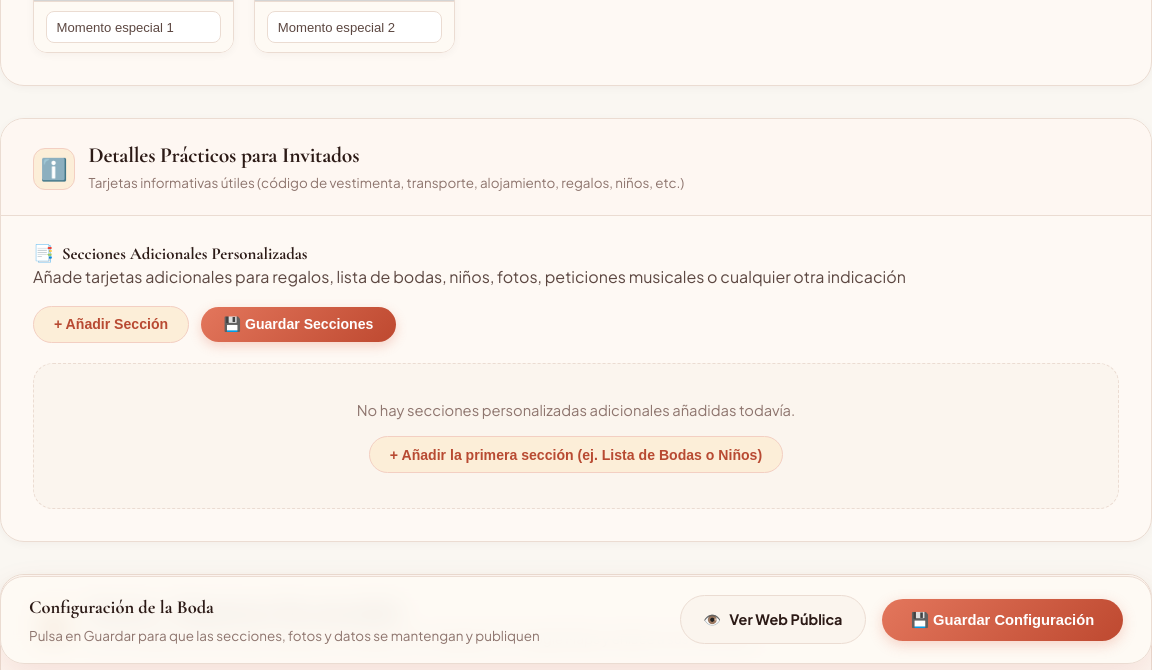
Test case: Feature: Configuración de Boda y Secciones Prácticas (AdminWeddingPage) › permite eliminar una sección personalizada creada
(page scrolled)
Click the button "+ Añadir Sección".
click(111, 324)  # box [33, 306, 189, 343]
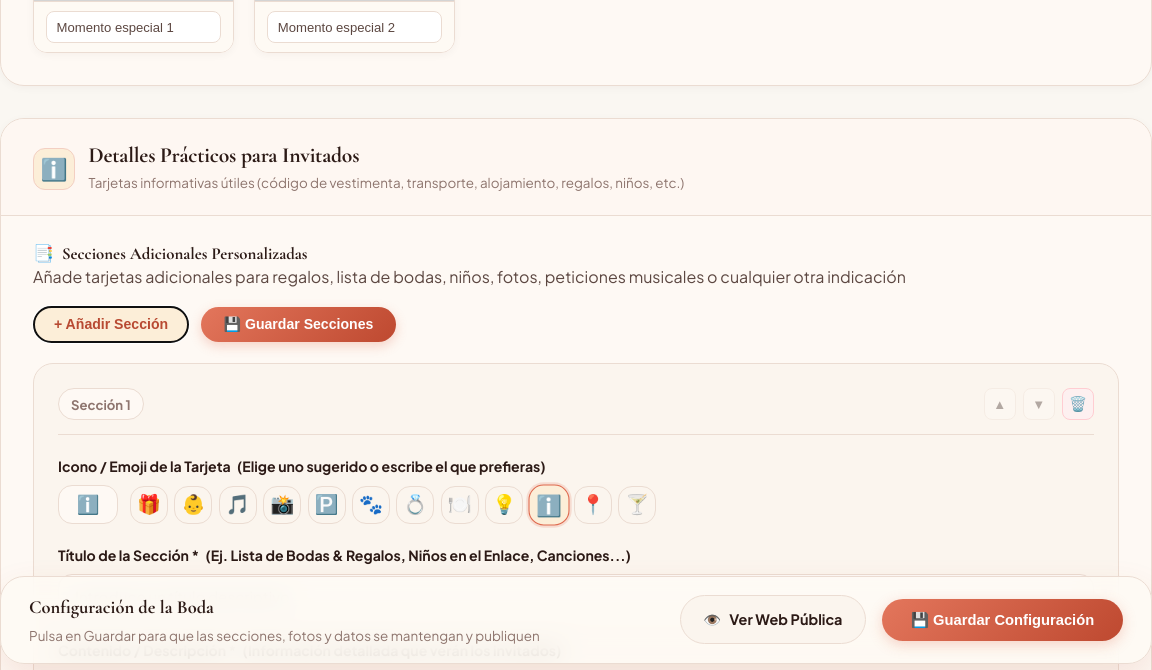
Expected: the text "Sección 1" is shown, [71, 394, 131, 414]
Eliminar la sección
Click the button titled "Eliminar esta sección".
click(1078, 404)  # box [1062, 388, 1094, 420]
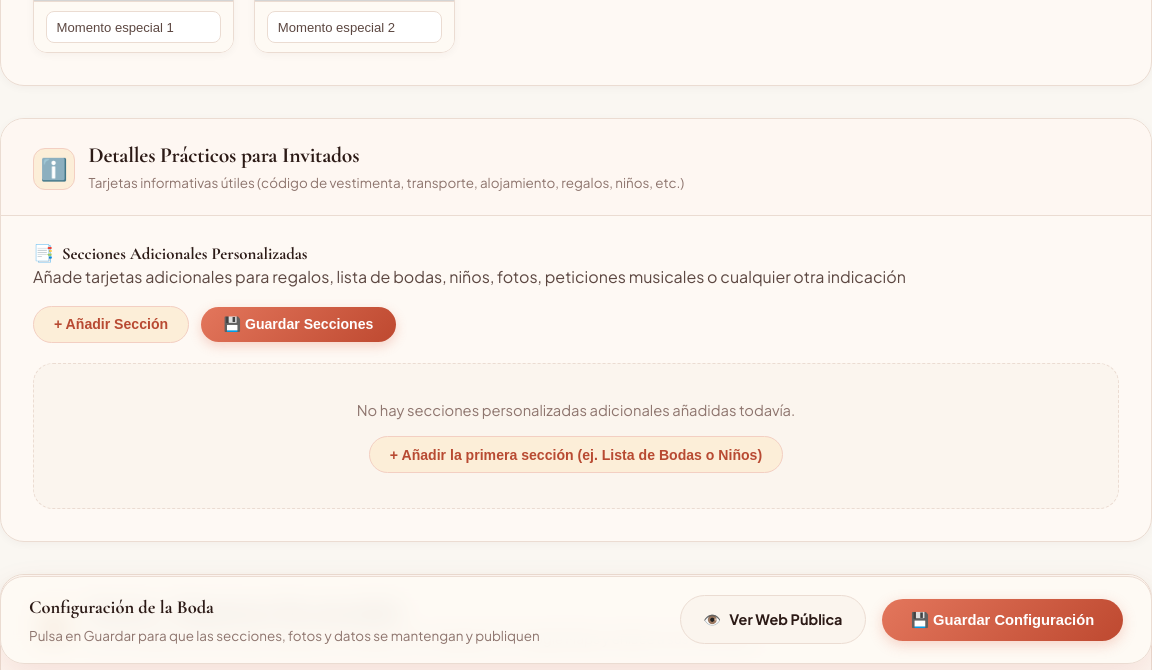
Expected: the text "Sección 1" is gone
Expected: the text "No hay secciones personalizadas adicionales añadidas todavía" is shown, [357, 401, 795, 419]
